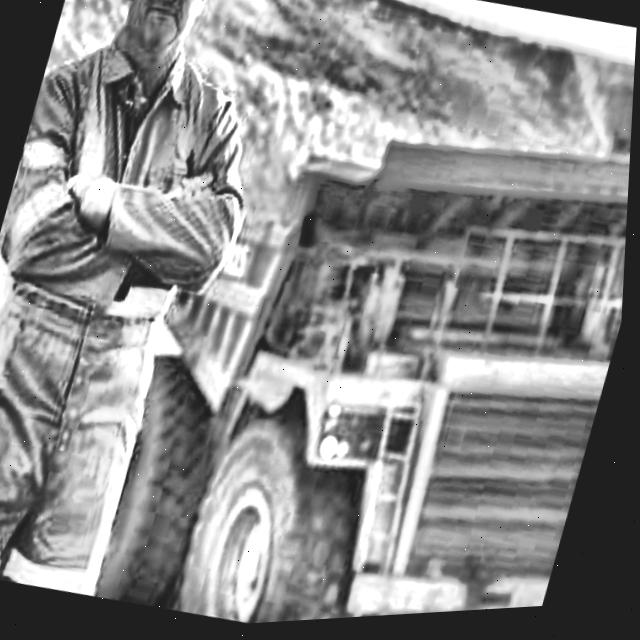dump_truck: (108, 22, 638, 634)
